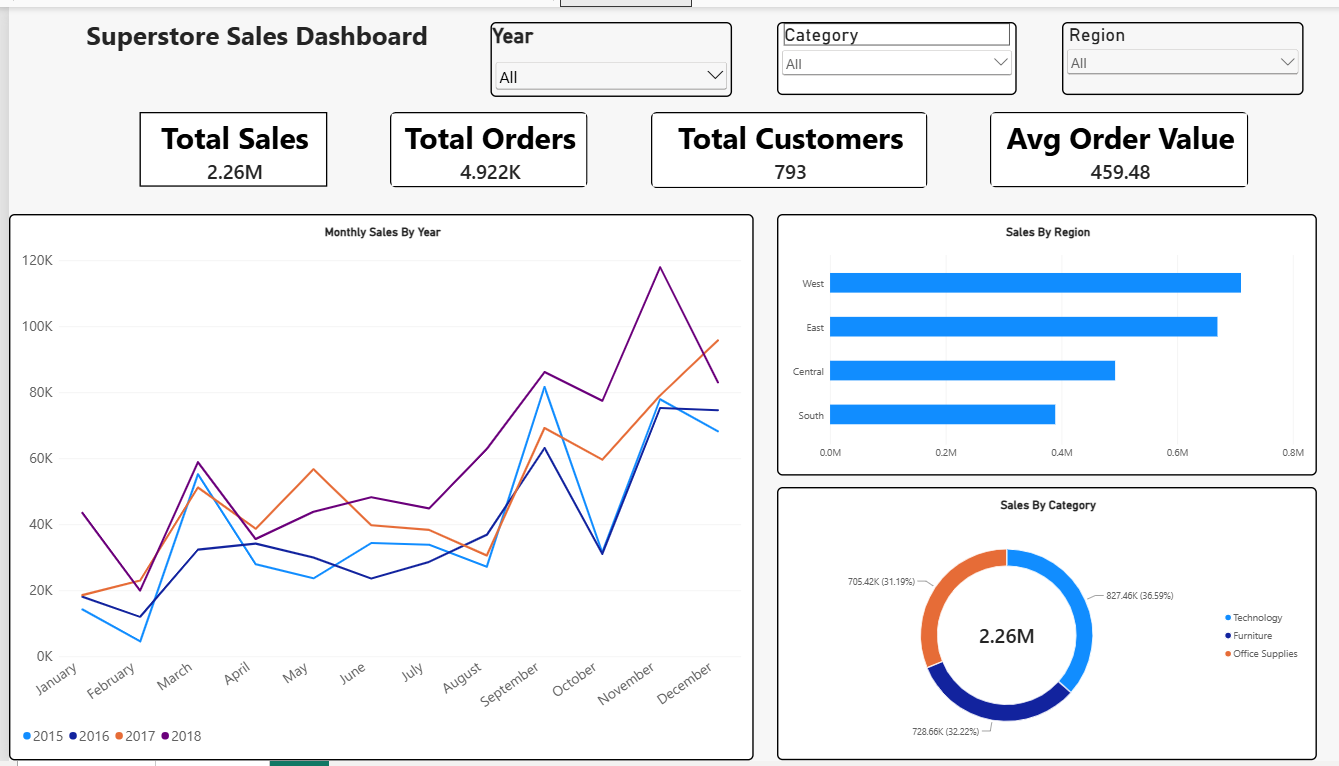

Layout of this report page (visuals, bound fields, positions):
{"tool":"powerbi","page":{"name":"Overview","canvas":[1920,1080],"ordinal":0},"visuals":[{"type":"cardVisual","fields":{"Data":["superstore_clean.Total Sales"]},"box":[187.2,150.3,269.6,107.4],"z":0},{"type":"cardVisual","fields":{"Data":["superstore_clean.Total Orders"]},"box":[546.6,150.3,283.3,108.3],"z":1000},{"type":"cardVisual","fields":{"Data":["superstore_clean.Total Customers"]},"box":[919.8,150.3,396.1,109.8],"z":2000},{"type":"cardVisual","fields":{"Data":["superstore_clean.Avg Order Value"]},"box":[1405.7,150.3,370,108],"z":3000},{"type":"slicer","title":"Year","fields":{"Values":["superstore_clean.Year"]},"box":[689.5,21.5,346,107.4],"z":4000},{"type":"slicer","fields":{"Values":["superstore_clean.Category"]},"box":[1099.9,21.5,343.6,105],"z":5000},{"type":"slicer","fields":{"Values":["superstore_clean.Region"]},"box":[1507.9,21.5,346,105],"z":6000},{"type":"lineChart","title":"Monthly Sales By Year","fields":{"Category":["superstore_clean.Month Name"],"Series":["superstore_clean.Year"],"Y":["superstore_clean.Total Sales"]},"box":[0,295.9,1066.5,782.6],"z":7000},{"type":"clusteredBarChart","title":"Sales By Region","fields":{"Category":["superstore_clean.Region"],"Y":["superstore_clean.Total Sales"]},"box":[1099.9,295.9,773,374.6],"z":8000},{"type":"donutChart","title":"Sales By Category","fields":{"Category":["superstore_clean.Category"],"Y":["superstore_clean.Total Sales"]},"box":[1099.9,687.1,773,391.3],"z":9000},{"type":"textbox","box":[50.1,14.3,612,114],"z":11000}]}

Visuals, with their boxes in screenshot pixels (x1, y1, x2, y2), scaled from the page's 1920x1080 canvas onto the 1339x766 screenshot:
cardVisual - superstore_clean.Total Sales: 131,107,319,183
cardVisual - superstore_clean.Total Orders: 381,107,579,183
cardVisual - superstore_clean.Total Customers: 641,107,918,184
cardVisual - superstore_clean.Avg Order Value: 980,107,1238,183
"Year" slicer: 481,15,722,91
slicer - superstore_clean.Category: 767,15,1007,90
slicer - superstore_clean.Region: 1052,15,1293,90
"Monthly Sales By Year" lineChart: 0,210,744,765
"Sales By Region" clusteredBarChart: 767,210,1306,476
"Sales By Category" donutChart: 767,487,1306,765
textbox: 35,10,462,91
